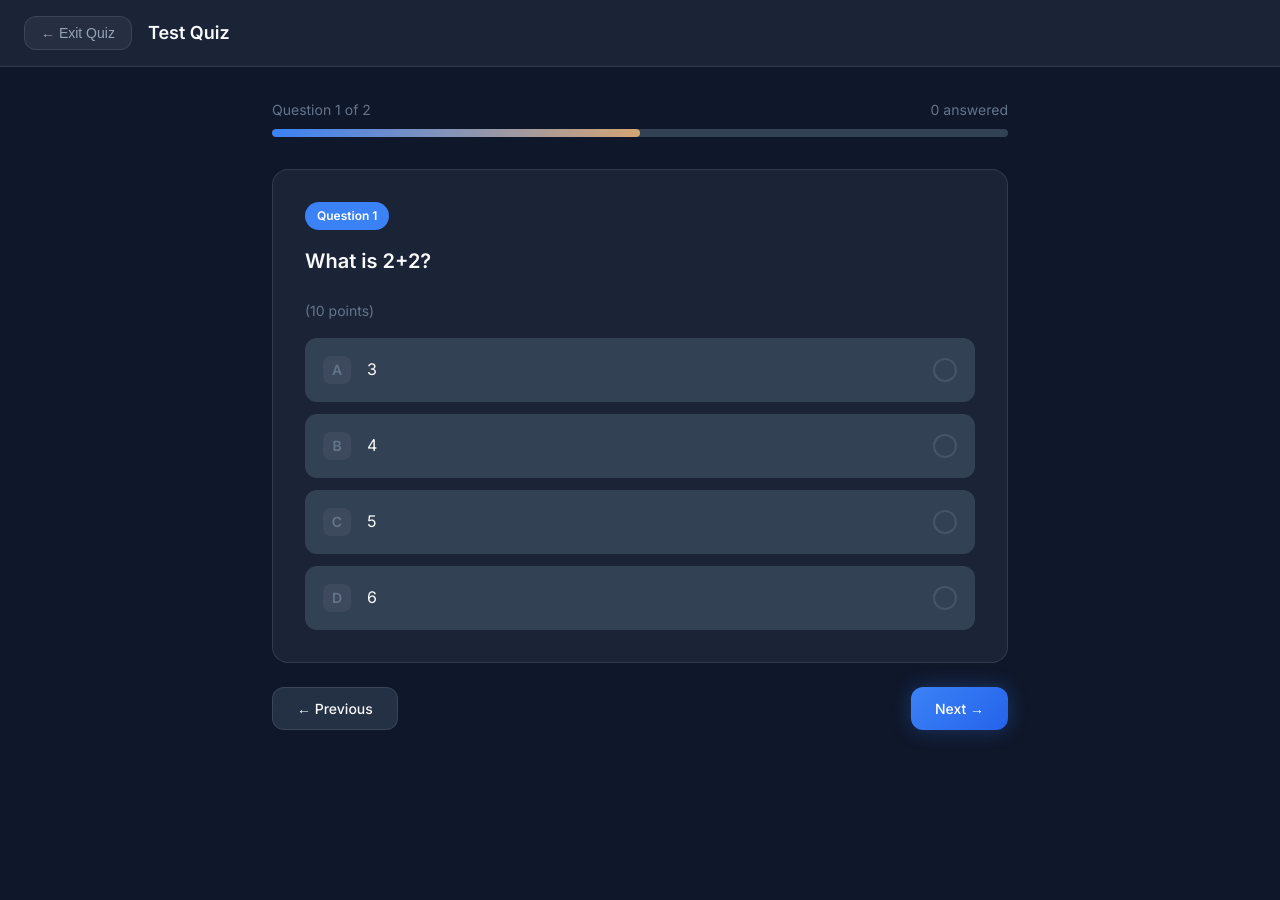
Scenario: QuizEngine › shows explanation after checking answer
Click the text "4". click: [640, 446]
box: [305, 414, 975, 478]
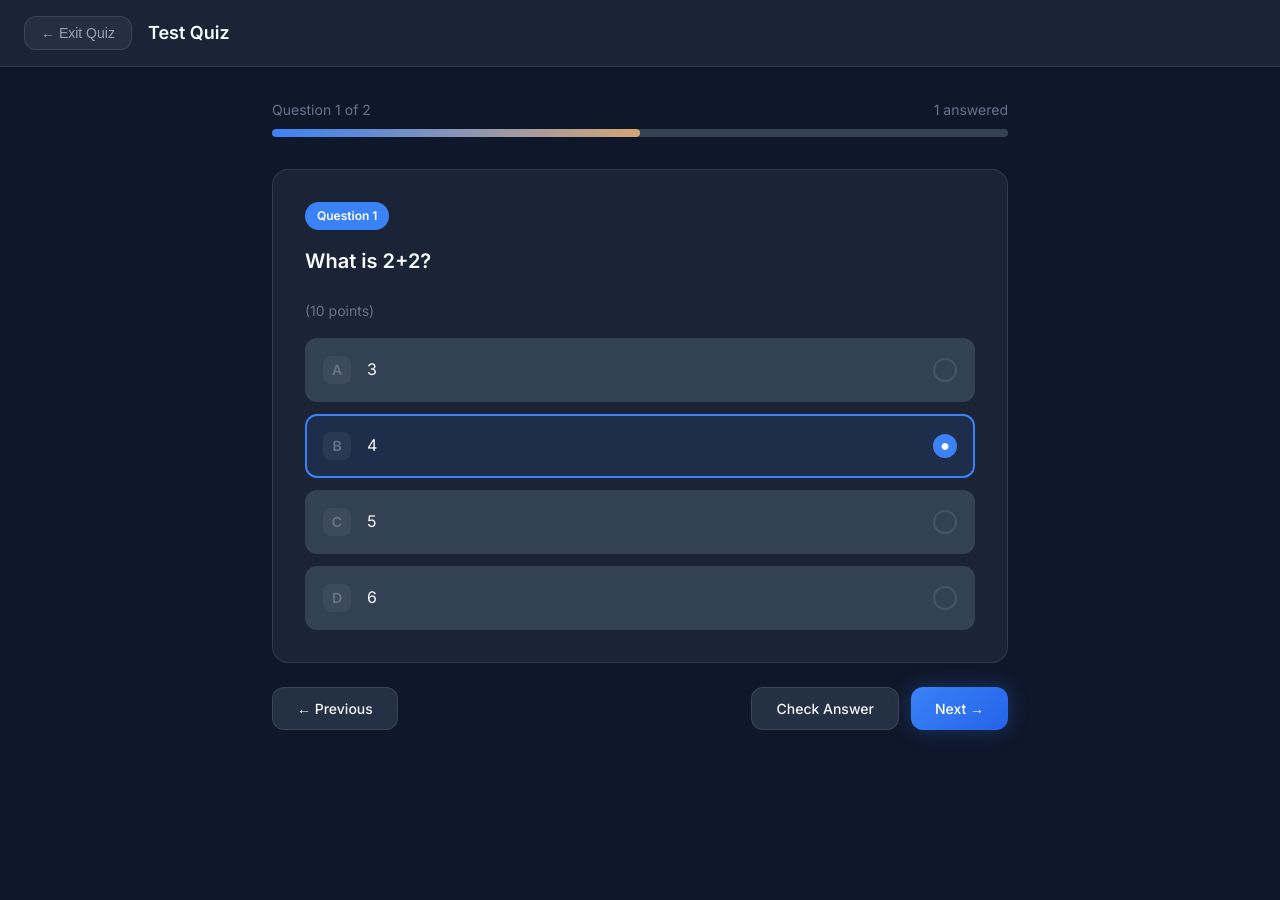
Click the button "Check Answer". click: [825, 708]
box: [752, 687, 899, 730]
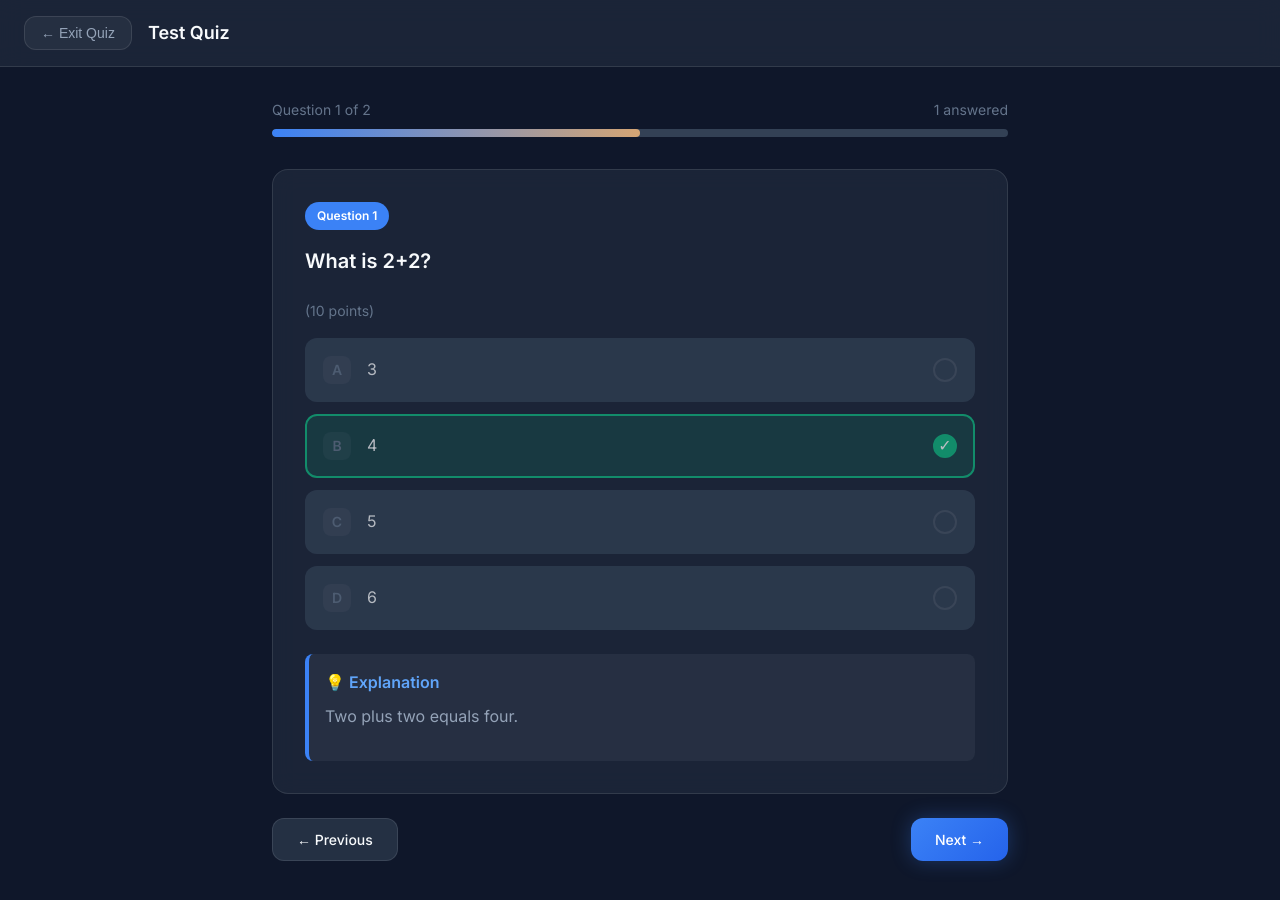
Expected: the text "💡 Explanation" is shown, [325, 672, 440, 692]
Expected: the text "Two plus two equals four." is shown, [325, 706, 518, 726]
